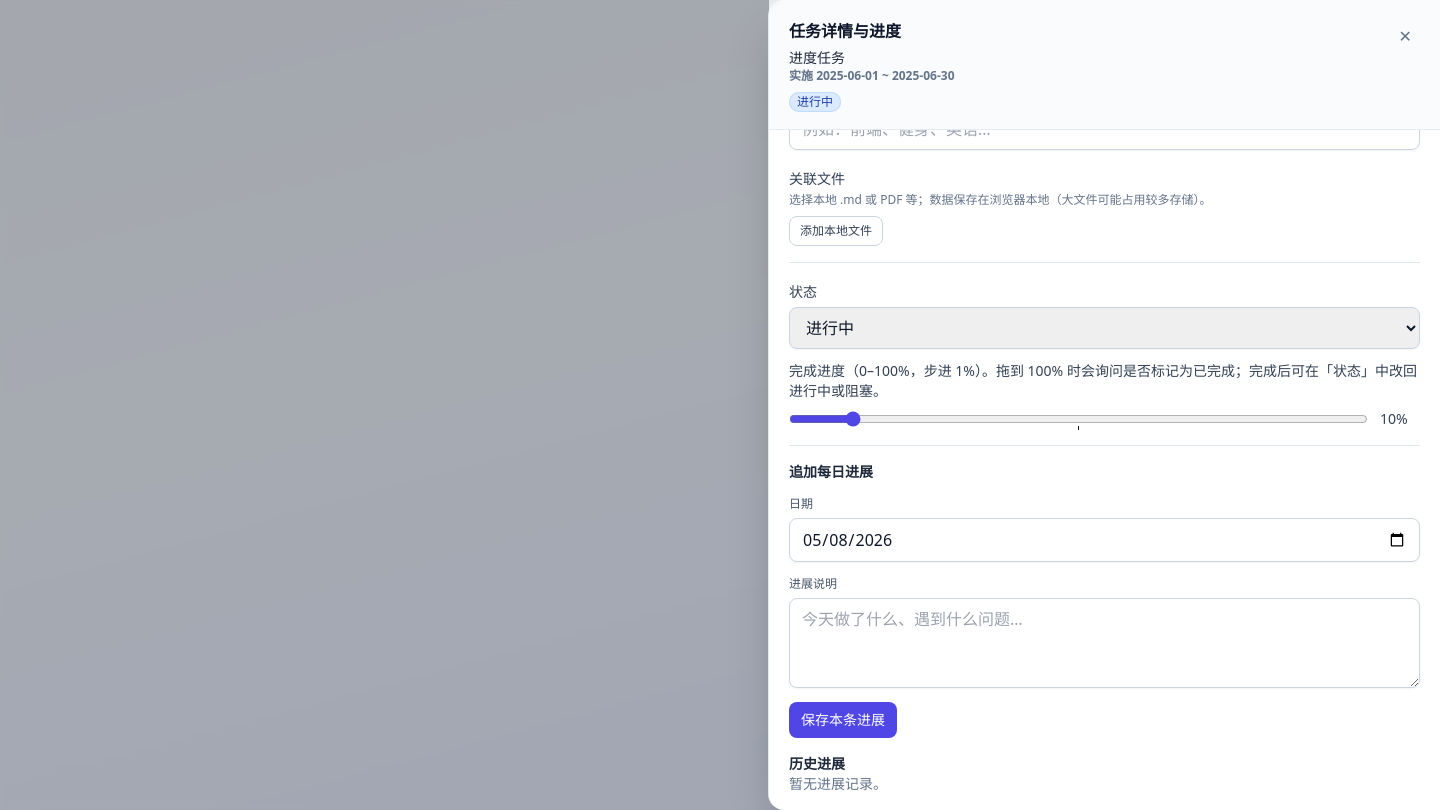
Test case: TaskProgressPanel › appends progress log when note is non-empty
(page scrolled)
In the text box labelled "进展说明": (1104, 643) [789,598,1420,688], type "  写了接口  "
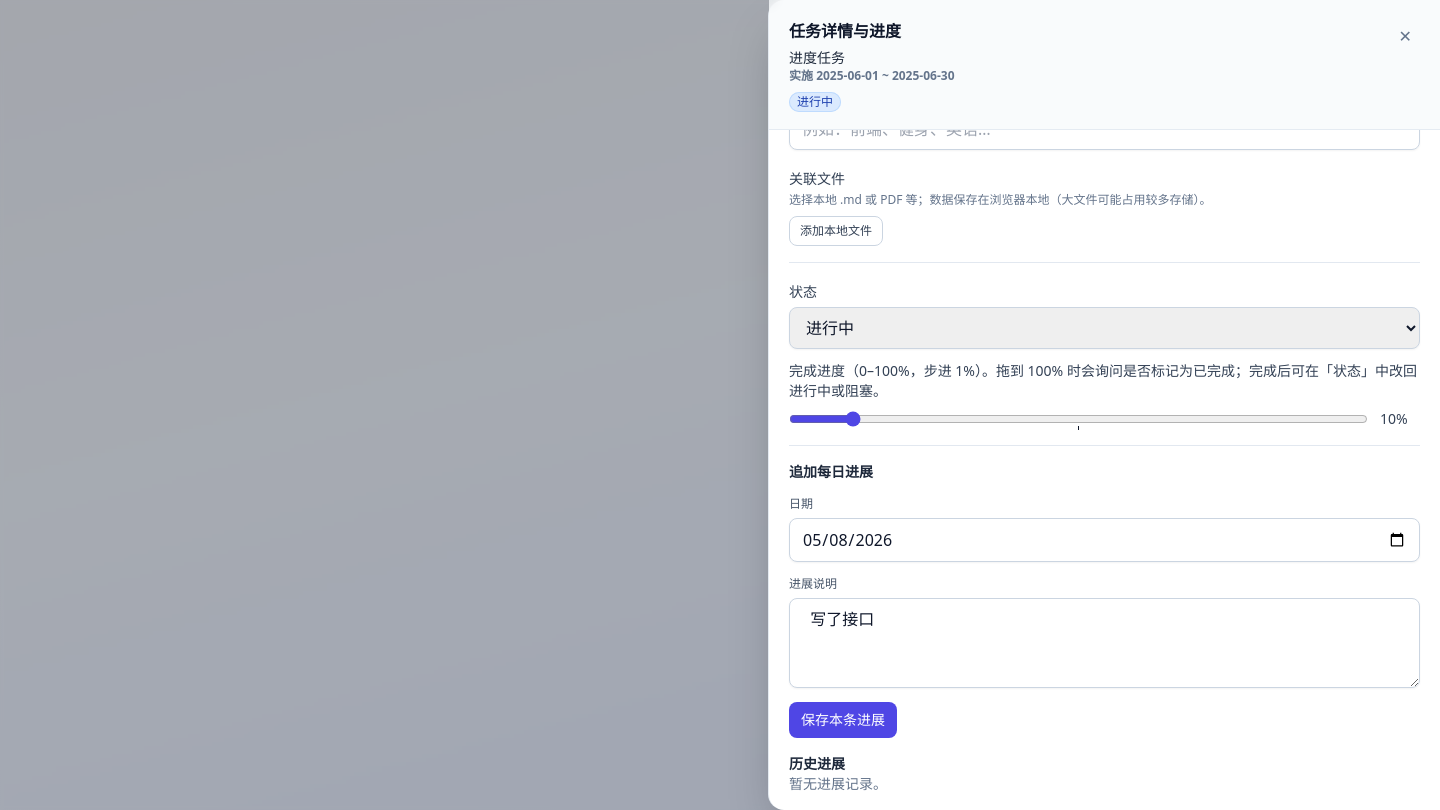
Click the button "保存本条进展": click(843, 720) [789,702,897,738]
(page scrolled)
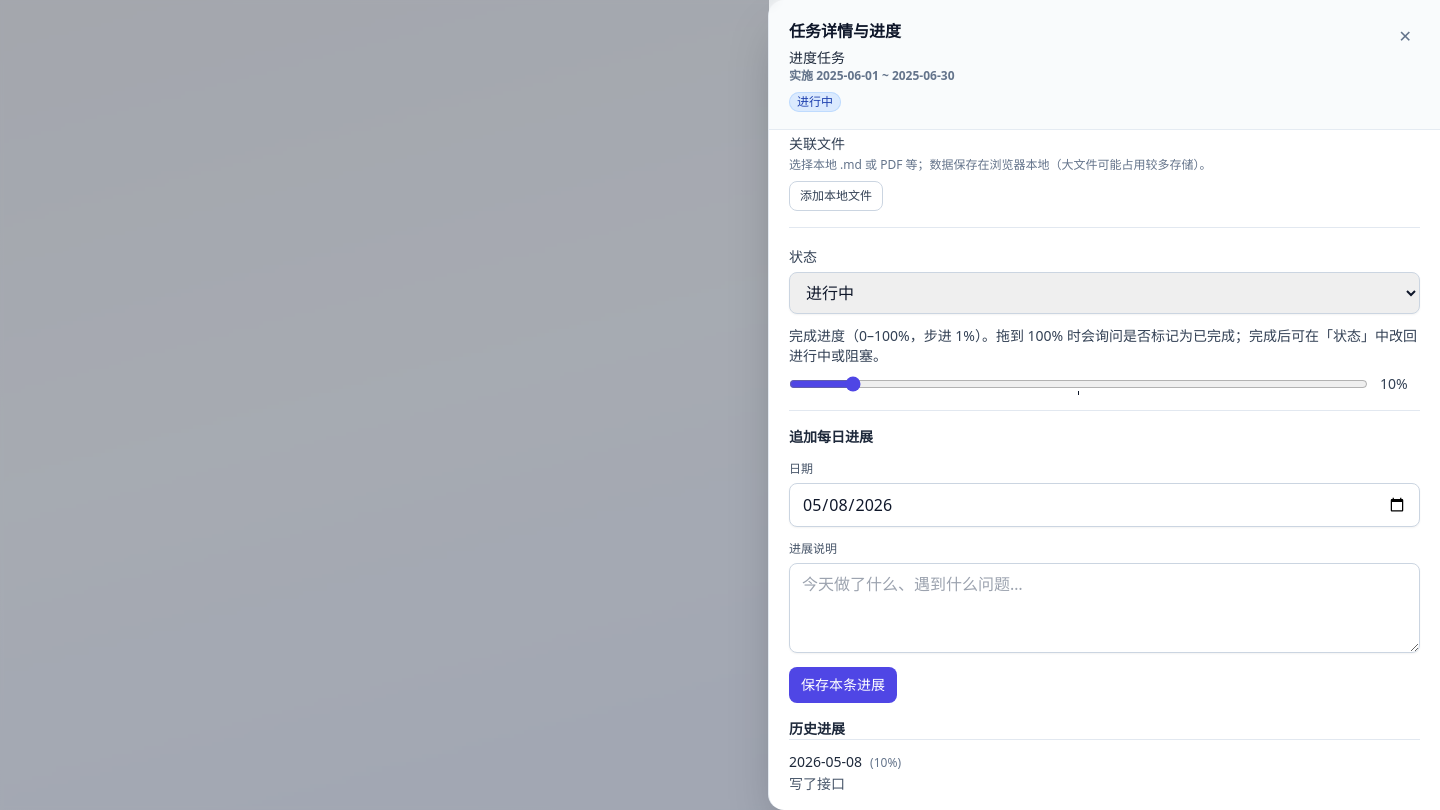
Check: the text "写了接口" is shown, box [789,774,845,793]
